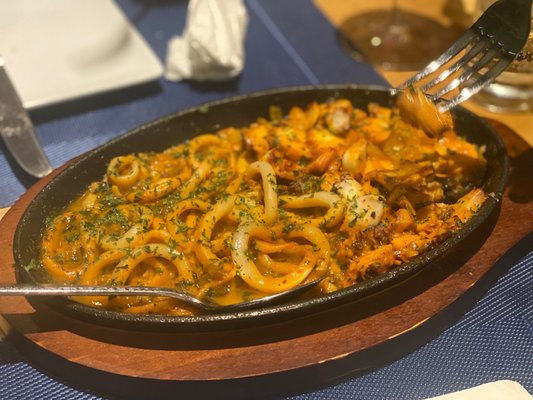sushi: (2, 83, 522, 319)
